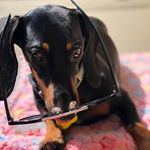puppy: (1, 2, 108, 123)
